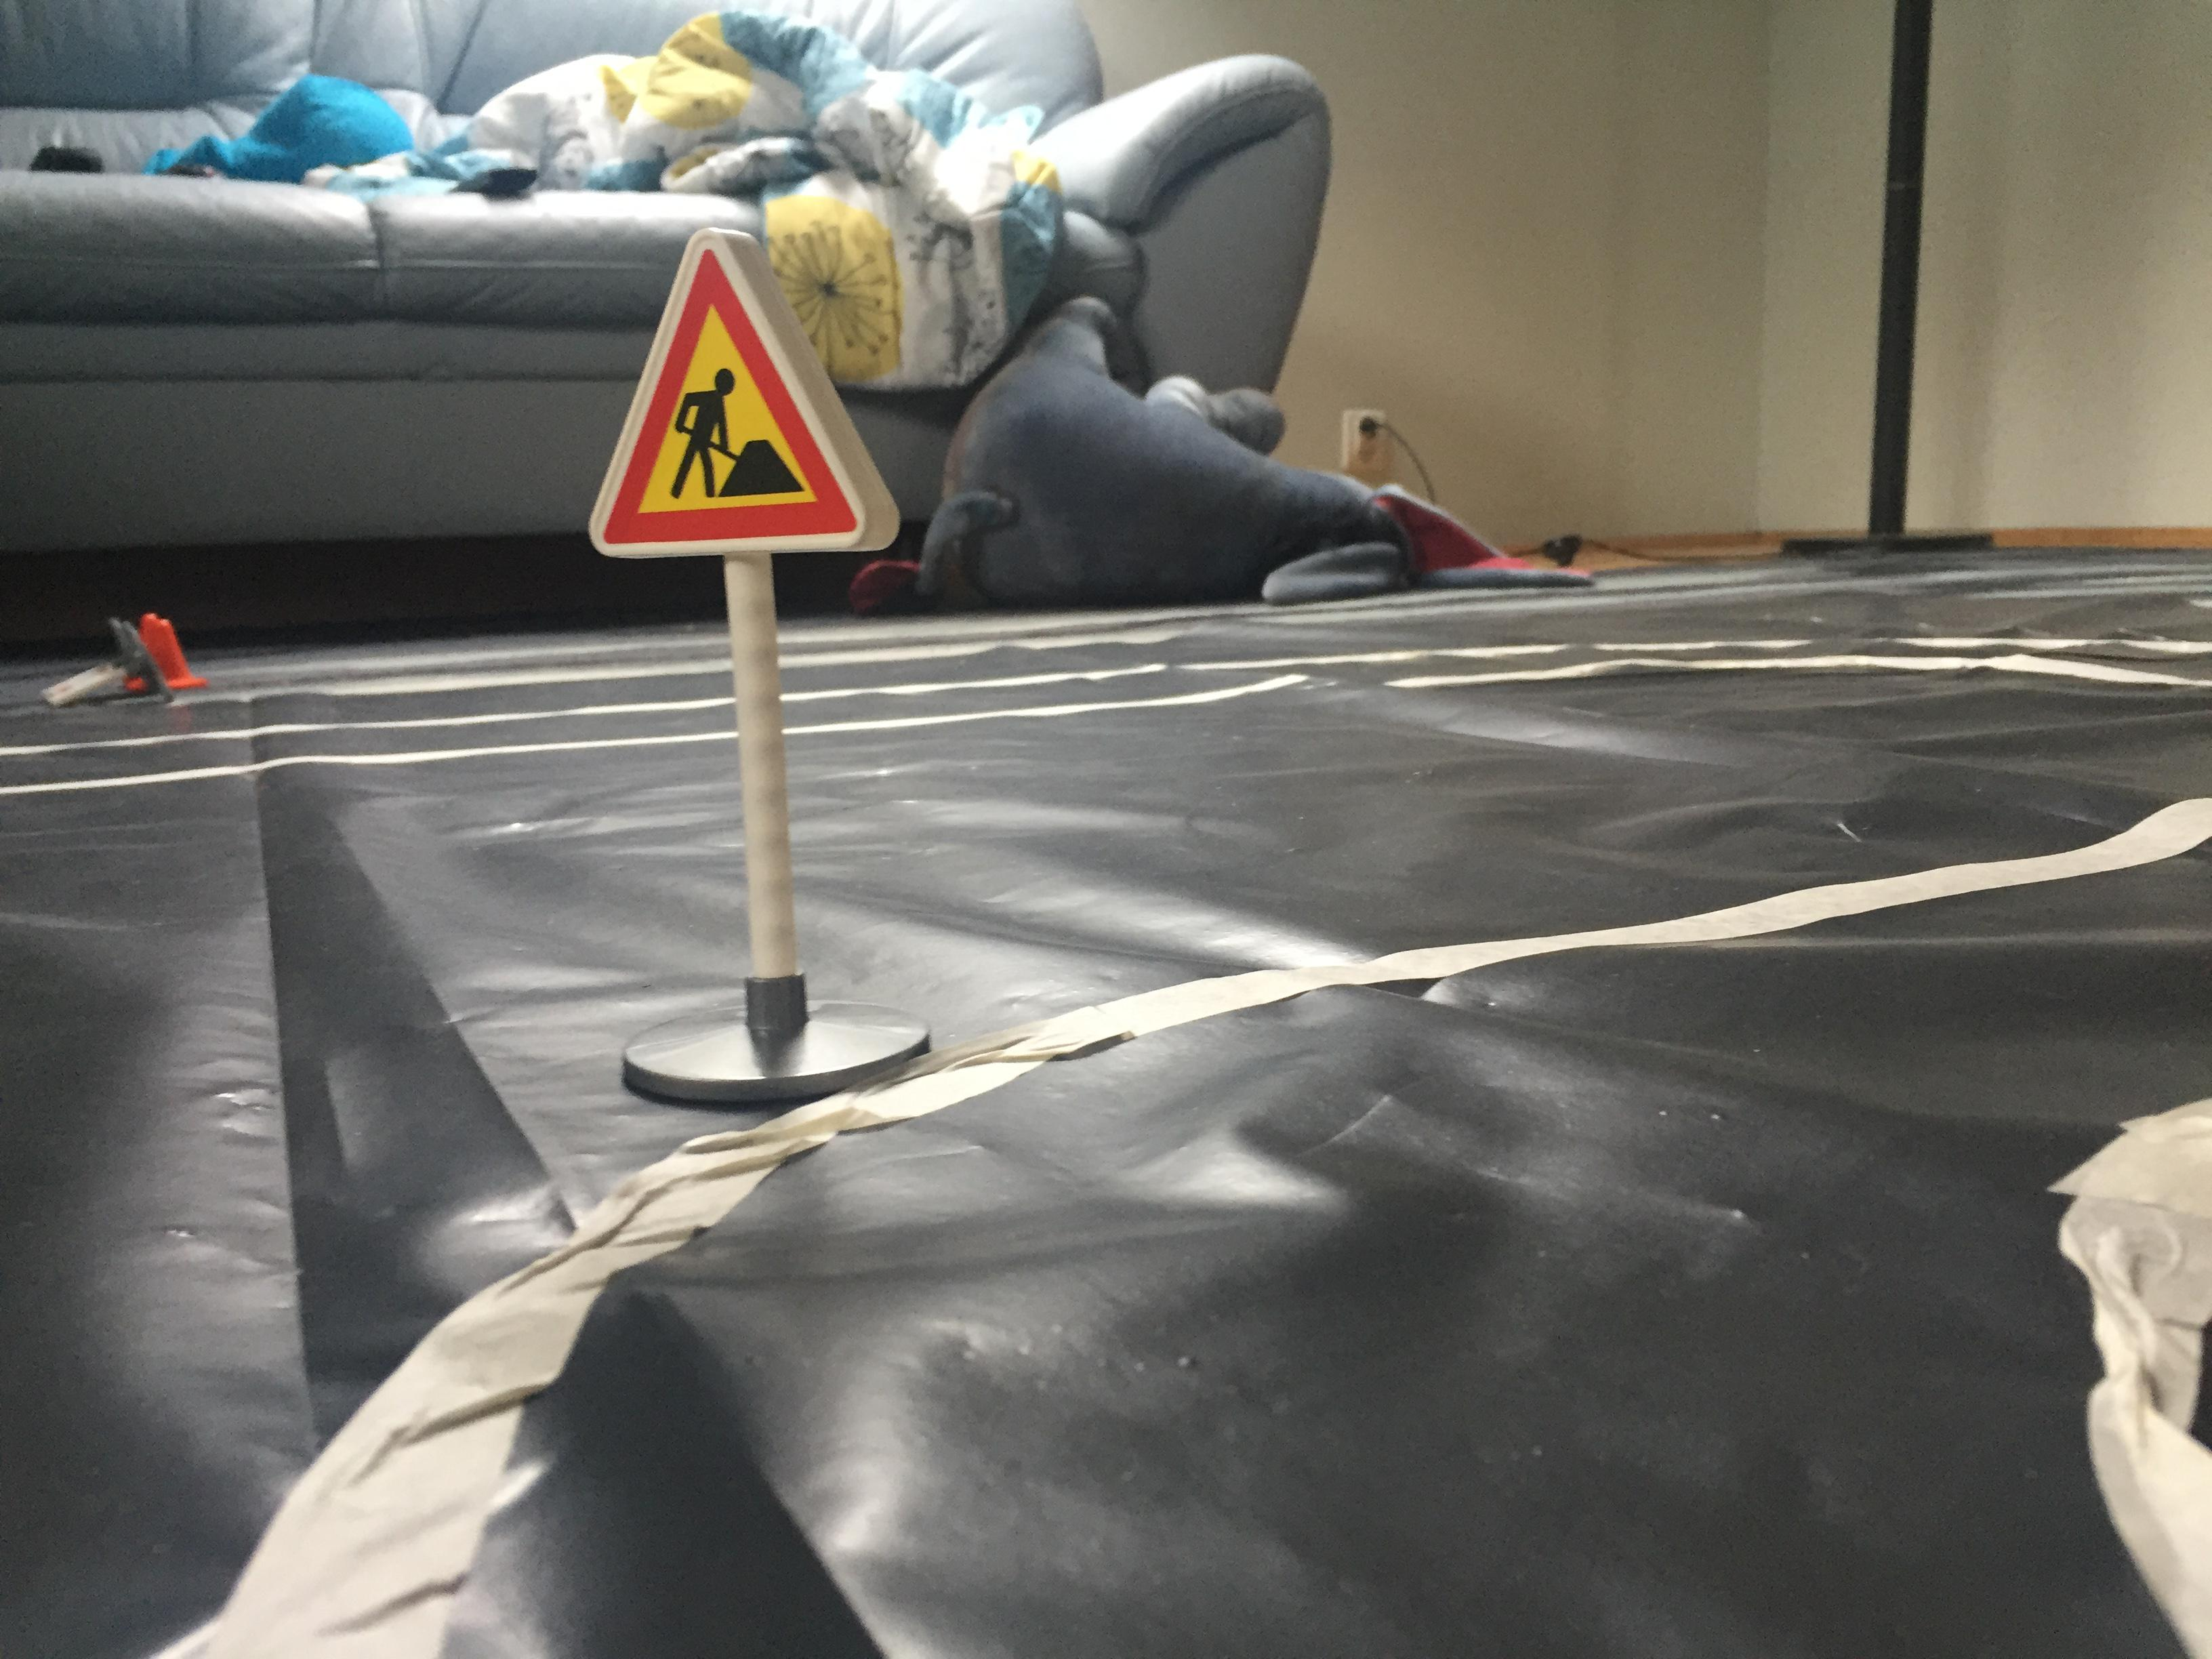work: (578, 220, 907, 573)
